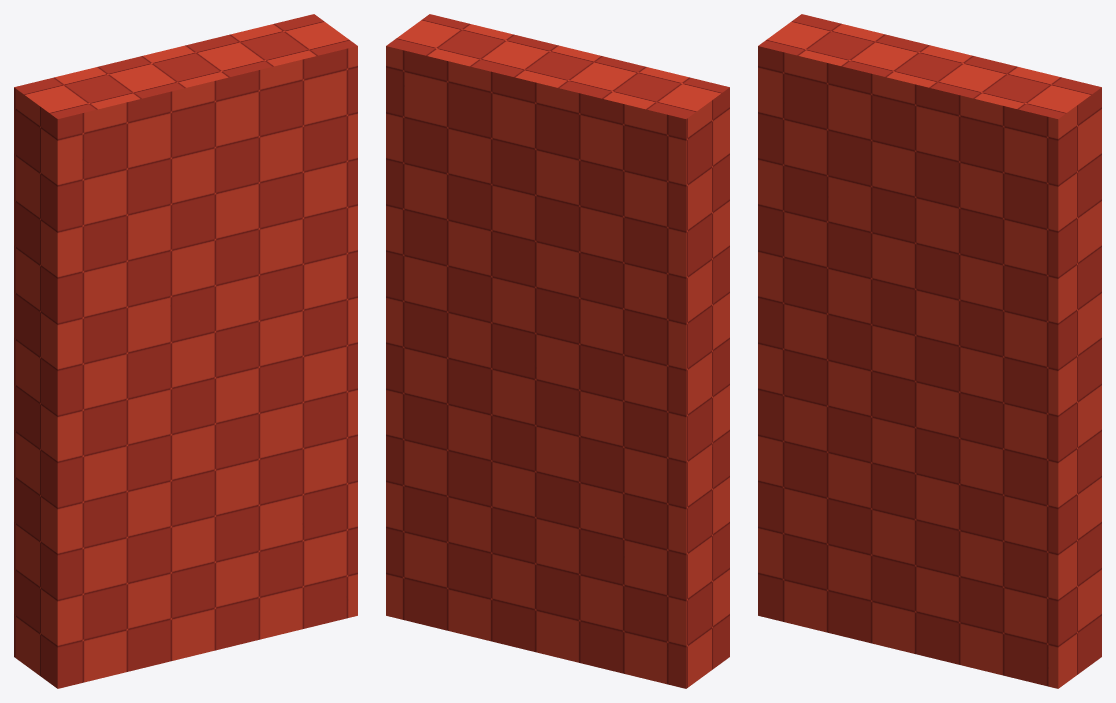
File: DoorPH.fbx
3 views of the same model, side by side, from view 1: azimuth 30°, elevation 25°; view 2: azimuth 150°, elevation 25°; view 3: azimuth 330°, elevation 25° (orthographic).
Visible parts, largest first — view 1: Cube; view 2: Cube; view 3: Cube.
Part boxes in pixels (<box>): Cube: <box>14,14,357,688</box>; Cube: <box>386,14,729,688</box>; Cube: <box>758,14,1101,688</box>.
Size of the model in its own units: 148 by 37.35 by 268.
